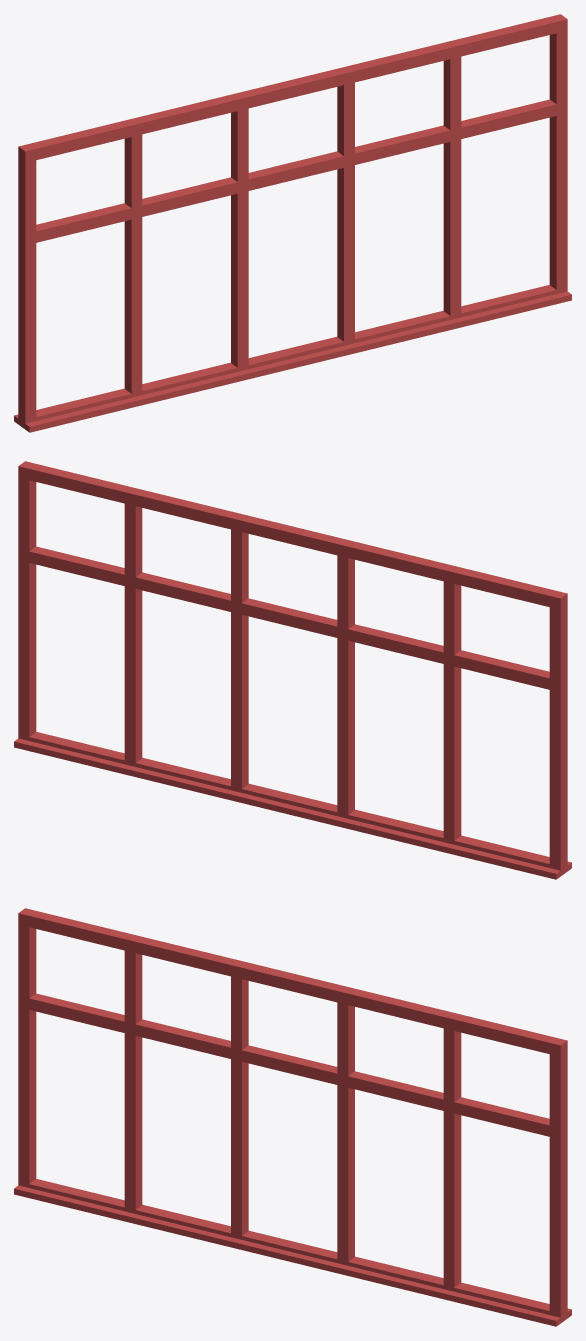
The model's file is Balcony Window 1.fbx.
The picture shows the model from 3 angles, top to bottom: view 1: azimuth 30°, elevation 25°; view 2: azimuth 150°, elevation 25°; view 3: azimuth 330°, elevation 25°; orthographic projection.
Visible parts, largest first — view 1: Balcony Window 1; view 2: Balcony Window 1; view 3: Balcony Window 1.
Part boxes in pixels (bbox=[...]): Balcony Window 1: bbox=[14, 14, 571, 432]; Balcony Window 1: bbox=[14, 461, 571, 879]; Balcony Window 1: bbox=[14, 908, 571, 1326].
Bounding box in the file's own units: 638 × 312 × 31.86.
